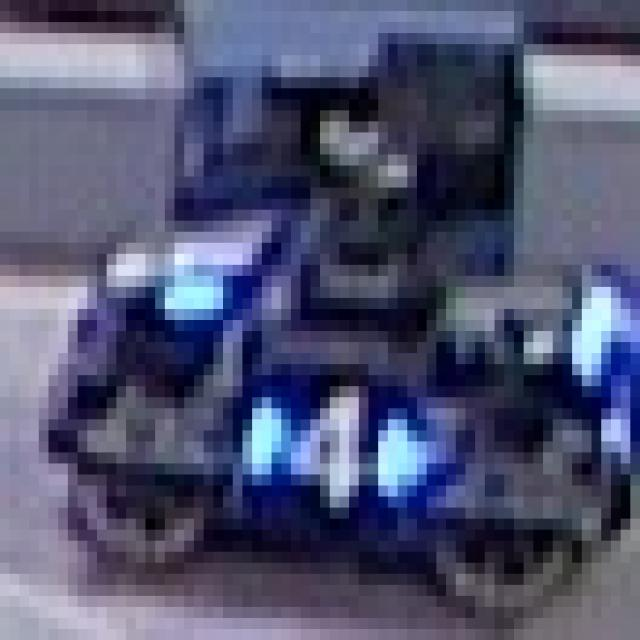B4: (218, 348, 432, 513)
